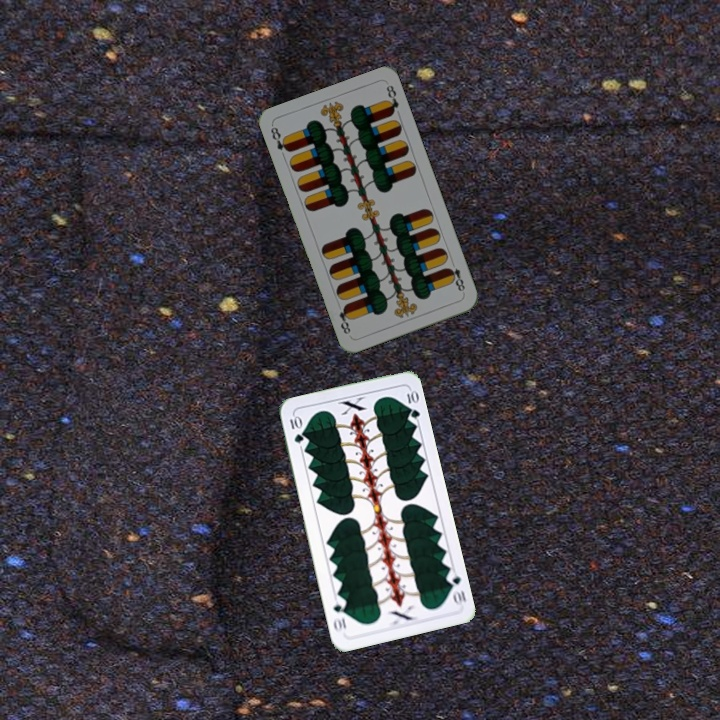E8: (443, 257, 468, 296), (266, 123, 293, 155)
G10: (442, 567, 469, 606), (286, 412, 306, 446)
